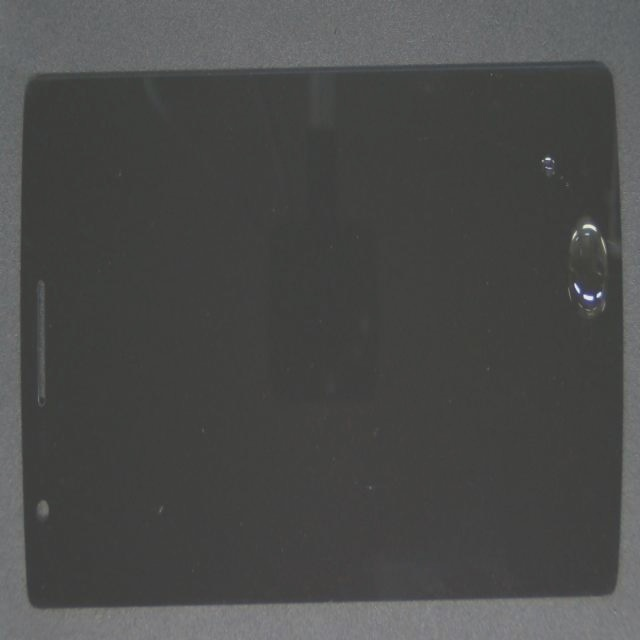oil: (272, 102, 640, 424), (272, 101, 640, 304)
